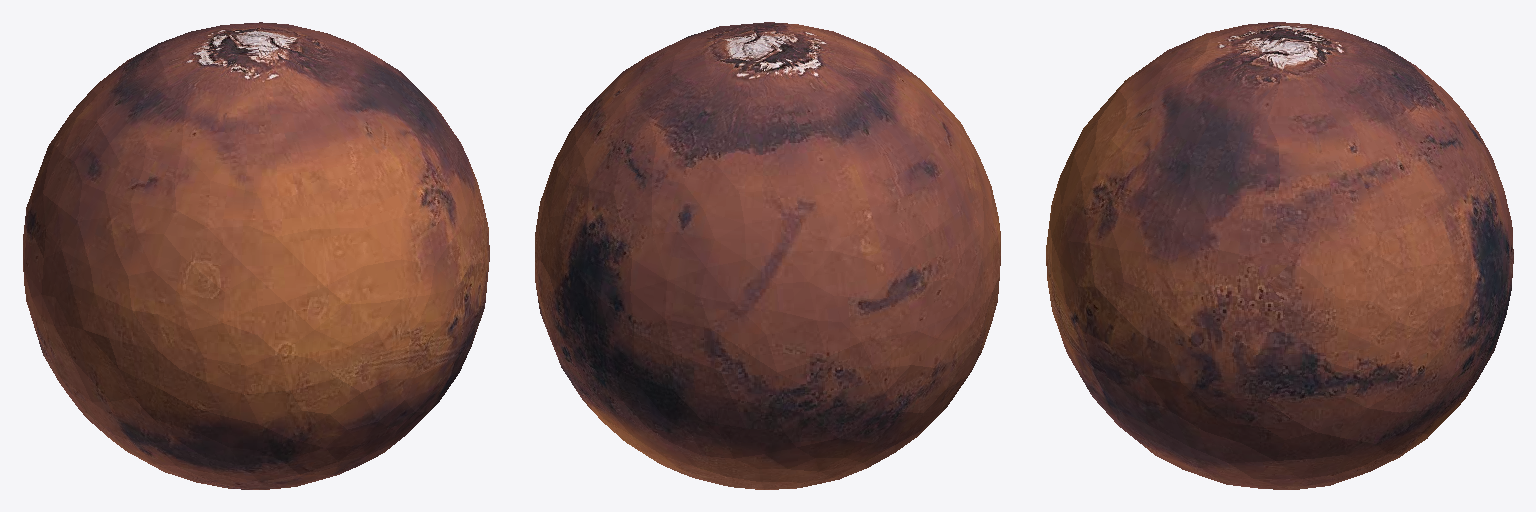
The picture shows the model from 3 angles: view 1: azimuth 30°, elevation 25°; view 2: azimuth 150°, elevation 25°; view 3: azimuth 270°, elevation 25°; orthographic projection.
Parts seen in each view (by area): view 1: Mars_Globe.002; view 2: Mars_Globe.002; view 3: Mars_Globe.002.
Boxes of the visible parts, x1=… form: Mars_Globe.002: x1=23, y1=22, x2=489, y2=489; Mars_Globe.002: x1=535, y1=22, x2=1000, y2=489; Mars_Globe.002: x1=1046, y1=22, x2=1513, y2=489.
Size of the model in its own units: 13.59 by 13.6 by 13.6.
Materials: 1 (1 with a texture image).